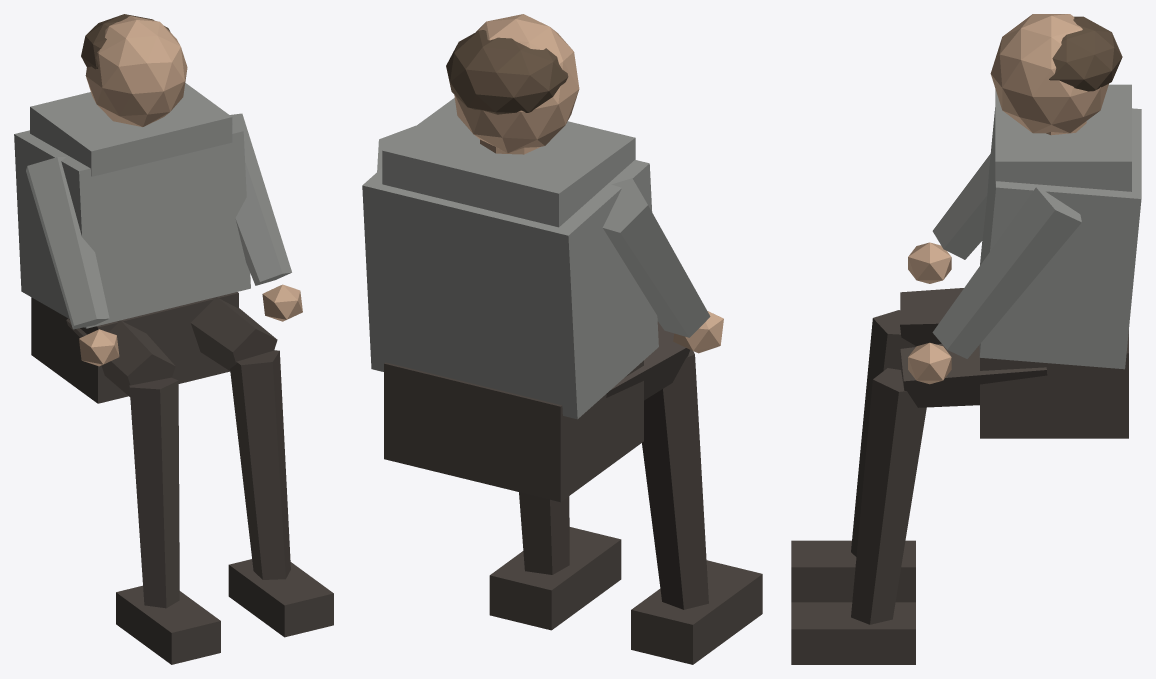
The model's file is spectator_seated_c.glb.
3 views of the same model, side by side, from view 1: azimuth 30°, elevation 25°; view 2: azimuth 150°, elevation 25°; view 3: azimuth 270°, elevation 25° (orthographic). The views are drawn at different scales.
Parts seen in each view (by area): view 1: spectator_seated_c; view 2: spectator_seated_c; view 3: spectator_seated_c.
Boxes of the visible parts, box(x1,y1,x2,y2) form: spectator_seated_c: box(14, 14, 333, 664); spectator_seated_c: box(362, 14, 762, 664); spectator_seated_c: box(791, 14, 1141, 664).
Size of the model in its own units: 0.4651 by 1.1 by 0.5756.
